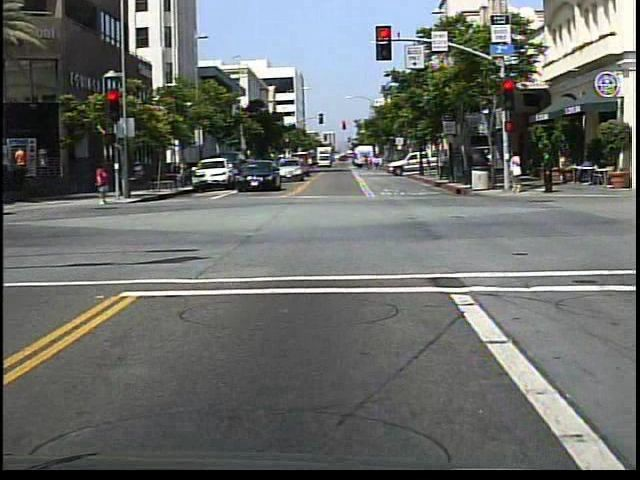person: (537, 147, 557, 195), (507, 148, 525, 197), (97, 161, 115, 207)
